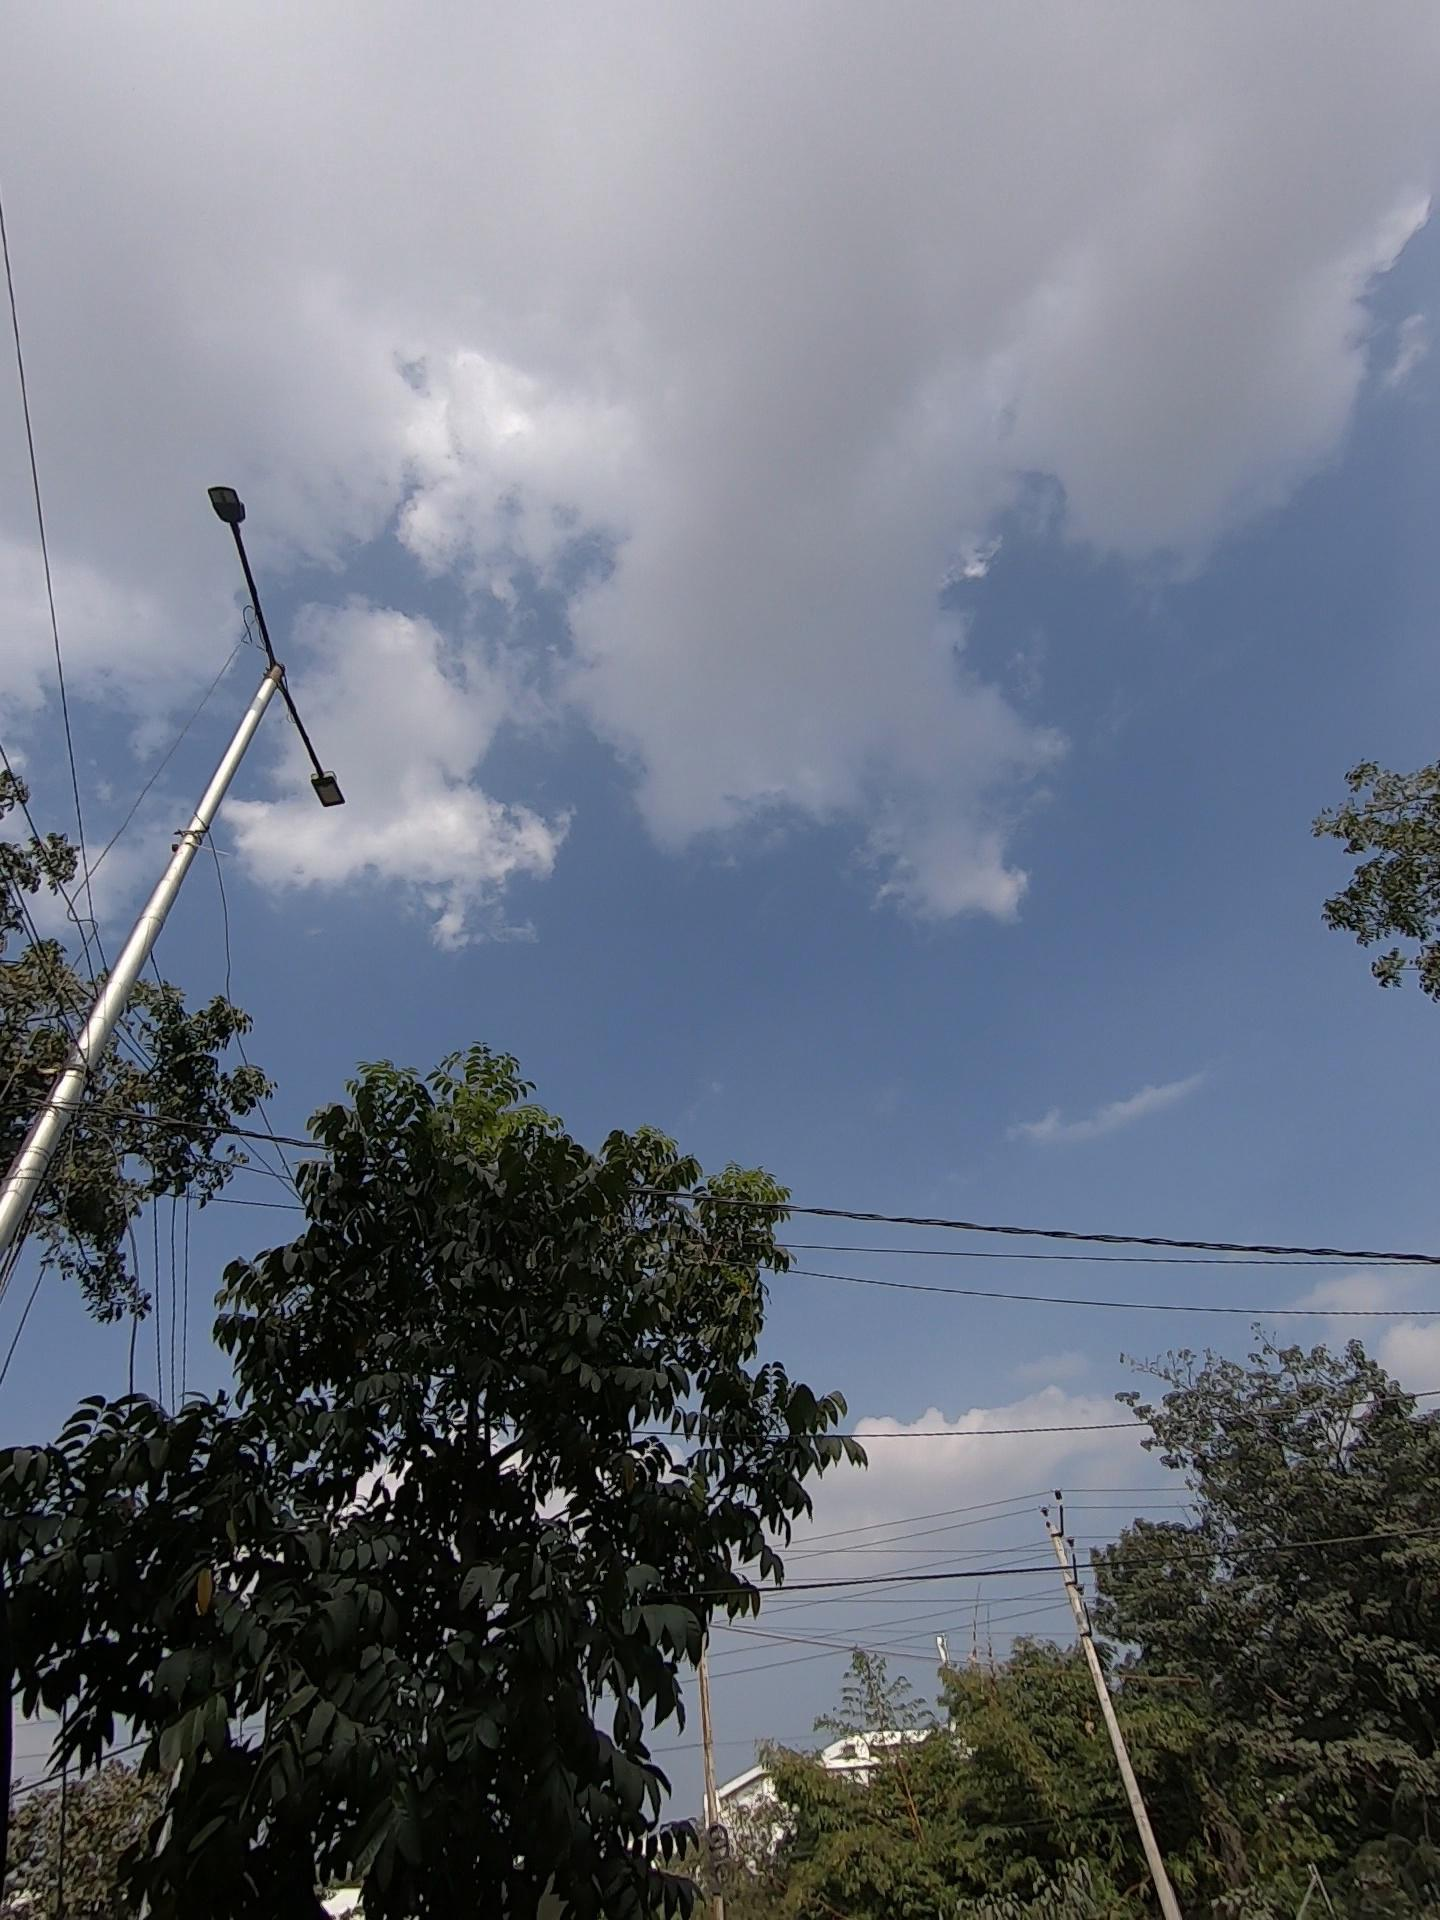off: (141, 342, 508, 868)
